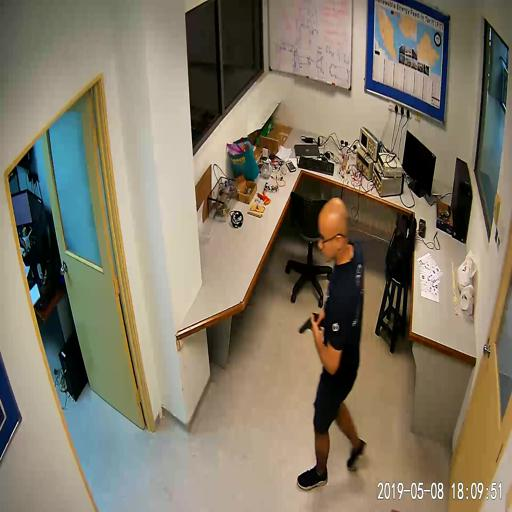pistol: (297, 307, 327, 339)
